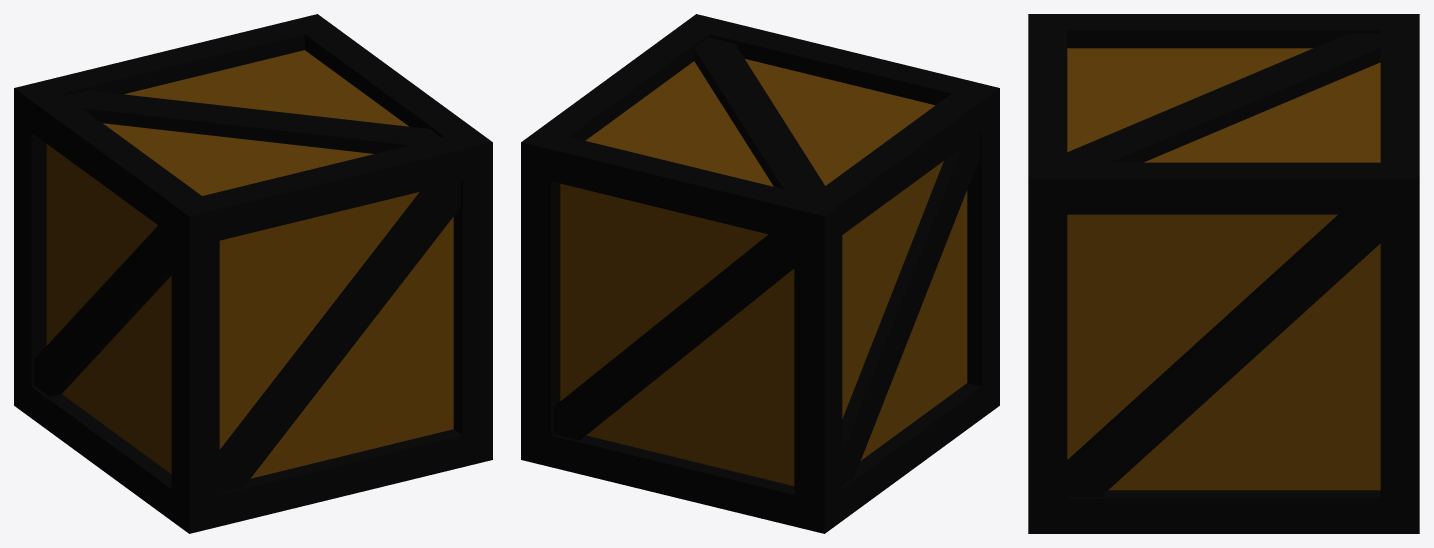
File: Crate.fbx
3 views of the same model, side by side, from view 1: azimuth 30°, elevation 25°; view 2: azimuth 150°, elevation 25°; view 3: azimuth 270°, elevation 25° (orthographic). The views are drawn at different scales.
Parts seen in each view (by area): view 1: Cube; view 2: Cube; view 3: Cube.
Part boxes in pixels (x1=…): Cube: x1=14, y1=14, x2=492, y2=533; Cube: x1=521, y1=14, x2=999, y2=533; Cube: x1=1028, y1=14, x2=1419, y2=533.
Bounding box in the file's own units: 200 × 200 × 200.
